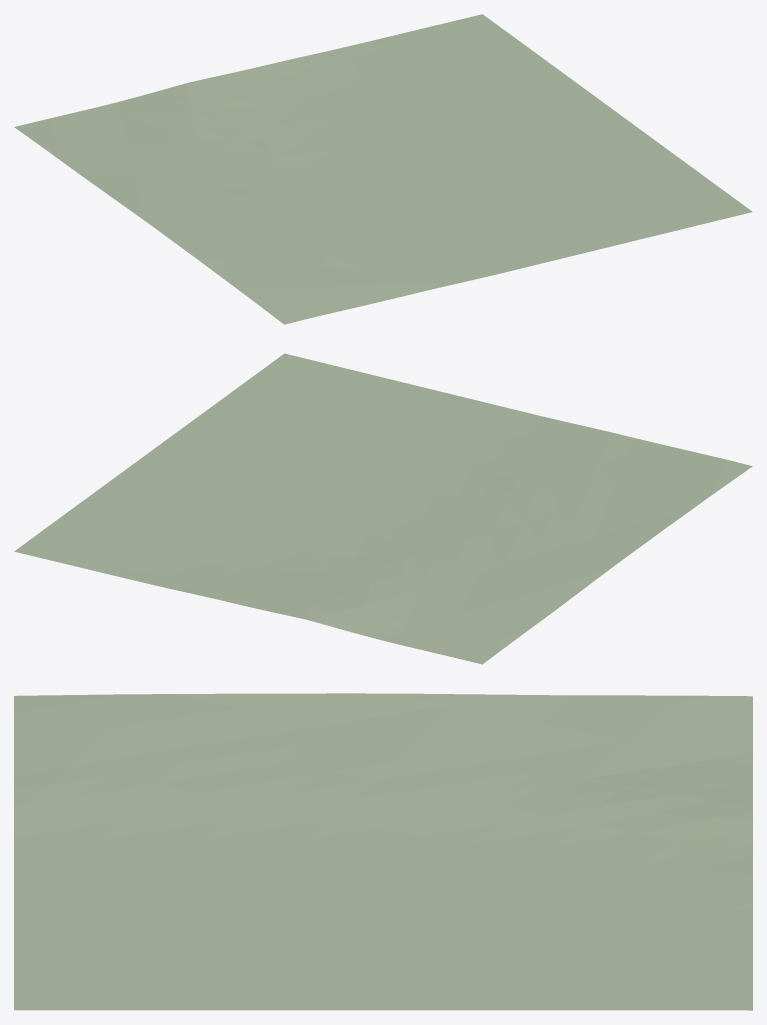
File: SM_MPRR_Terrain_-2_0.fbx
3 views of the same model, one above another, from view 1: azimuth 30°, elevation 25°; view 2: azimuth 150°, elevation 25°; view 3: azimuth 270°, elevation 25° (orthographic). The views are drawn at different scales.
Visible parts, largest first — view 1: SM_MPRR_Terrain_-2_0; view 2: SM_MPRR_Terrain_-2_0; view 3: SM_MPRR_Terrain_-2_0.
Boxes of the visible parts, left/top/right/bottom form: SM_MPRR_Terrain_-2_0: left=14, top=14, right=752, bottom=324; SM_MPRR_Terrain_-2_0: left=14, top=353, right=752, bottom=664; SM_MPRR_Terrain_-2_0: left=14, top=693, right=752, bottom=1010.
Bounding box in the file's own units: 15000 × 15000 × 106.
